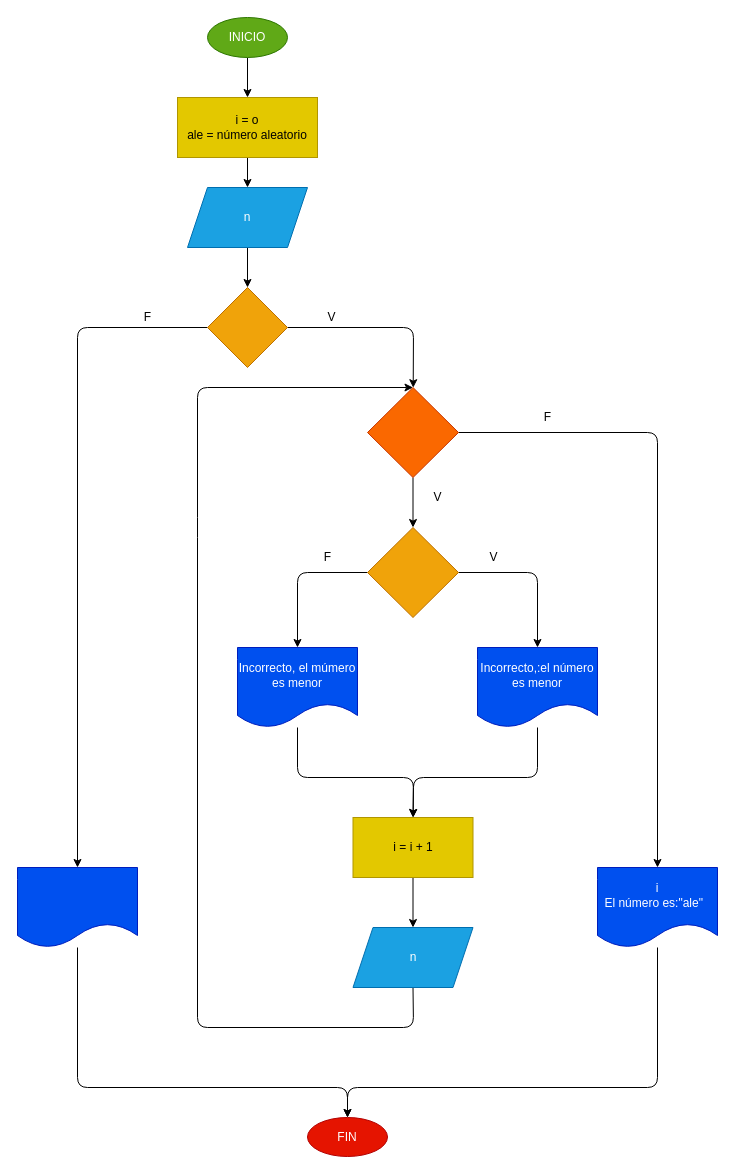
Some shapes in this 735 by 1174 pixel diagram are drawn without their labels. The centre of each missing label's shape, as x and y in pixels:
El número no cumplió las características: the point at 77,907
n != ale: the point at 412,432
Si n > ale: the point at 412,572
sI n >= 0 y n <=10000: the point at 247,327
